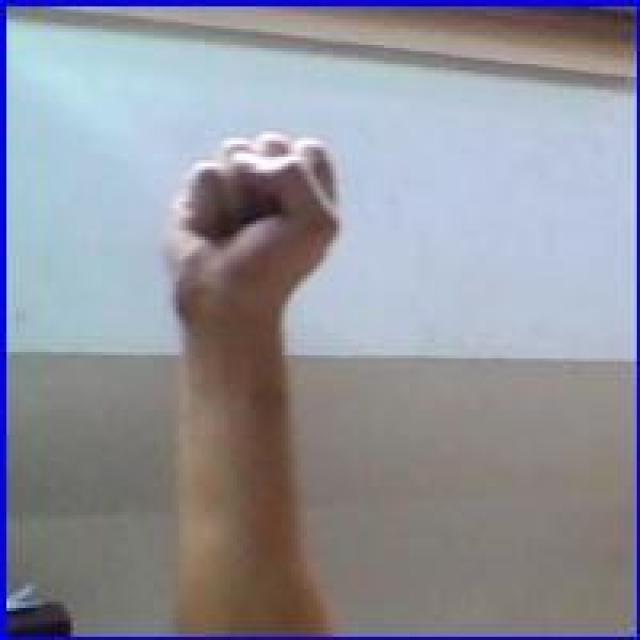S: (162, 123, 347, 325)
